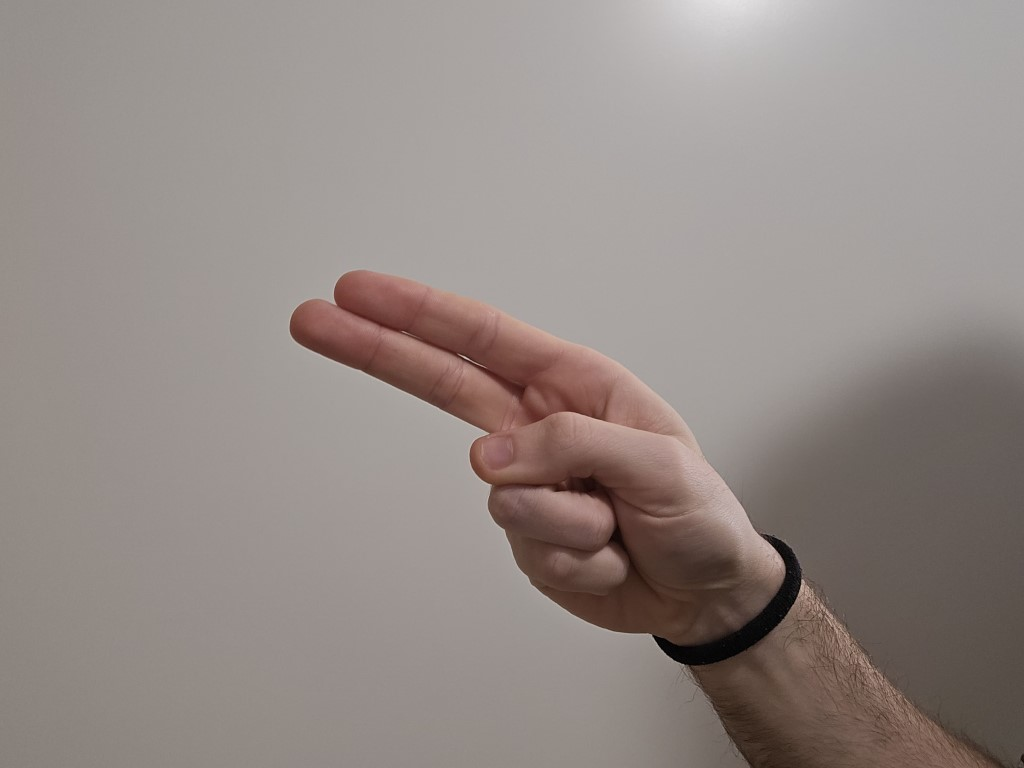h: (274, 252, 751, 637)
